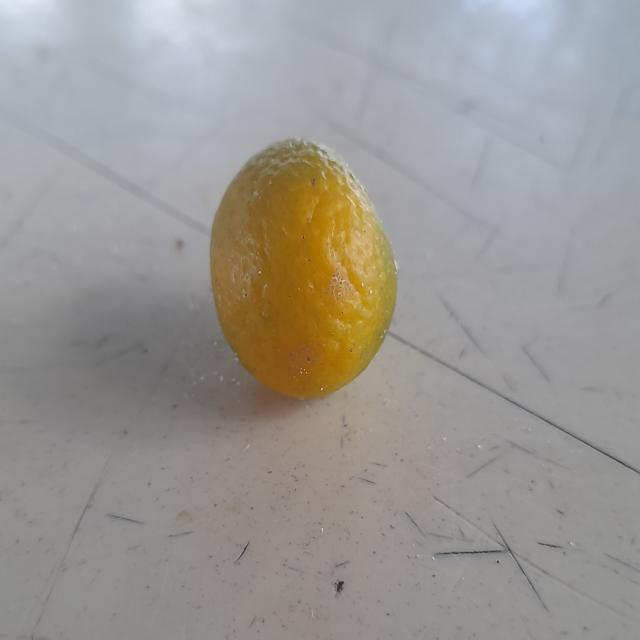greening: (195, 128, 402, 405)
